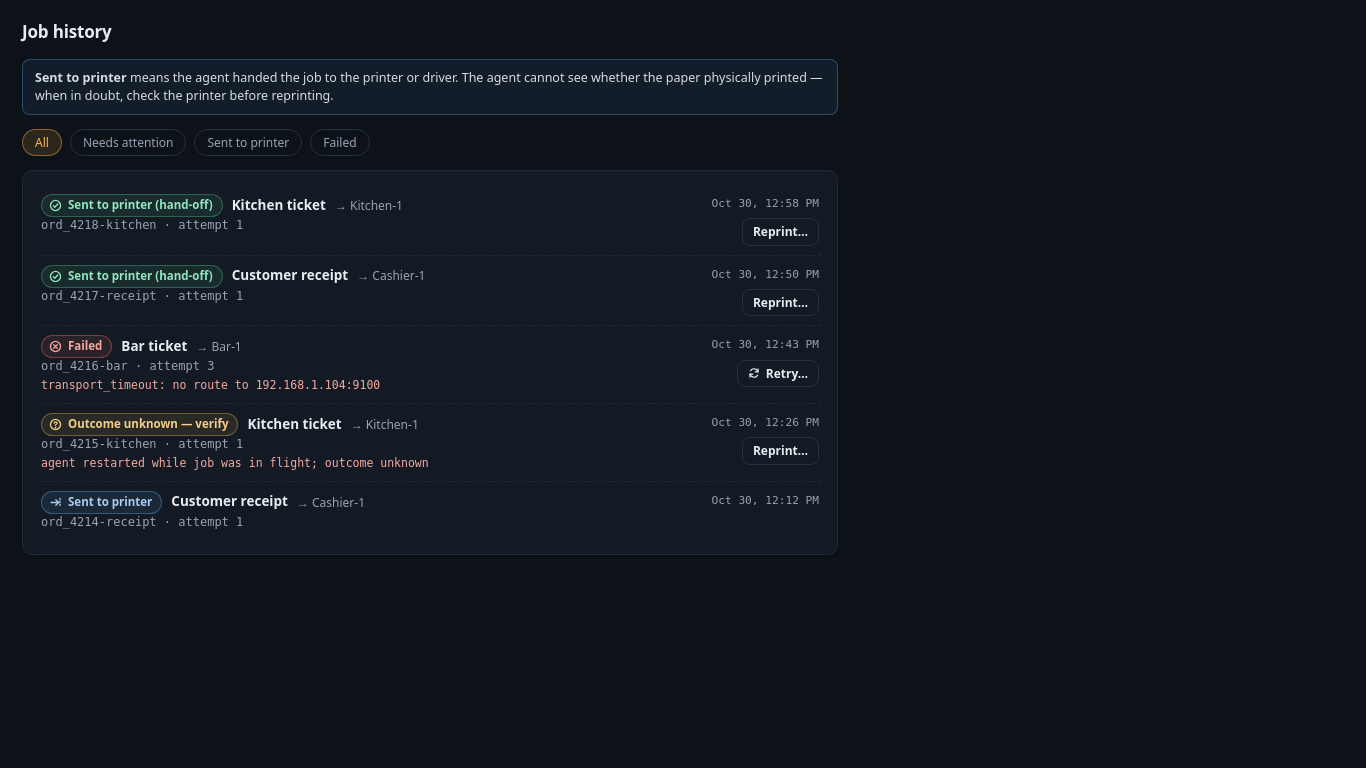
Test case: JobHistoryScreen › requires confirmation for retry and cancels safely
Expected: the text "transport_timeout: no route to 192.168.1.104:9100" is shown, 41,378 -> 380,394
Expected: the list item "transport_timeout" is shown, 41,378 -> 380,392
Click the button "Retry…".
click(778, 373)  # box 737,360 -> 819,387
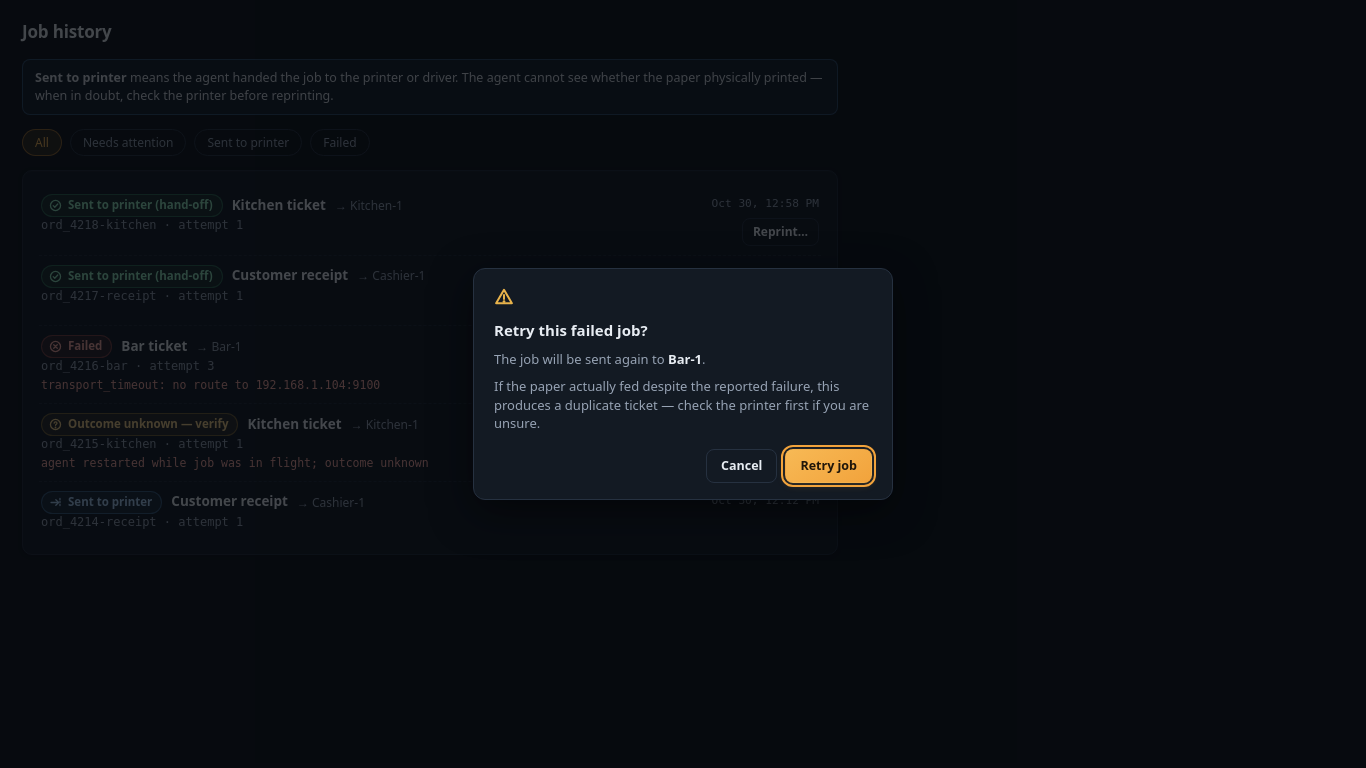
Expected: the dialog shows "Retry", 494,320 -> 648,340
Expected: the dialog shows "duplicate", 494,377 -> 869,432
Click the button "Cancel".
click(742, 466)  # box 706,449 -> 778,483
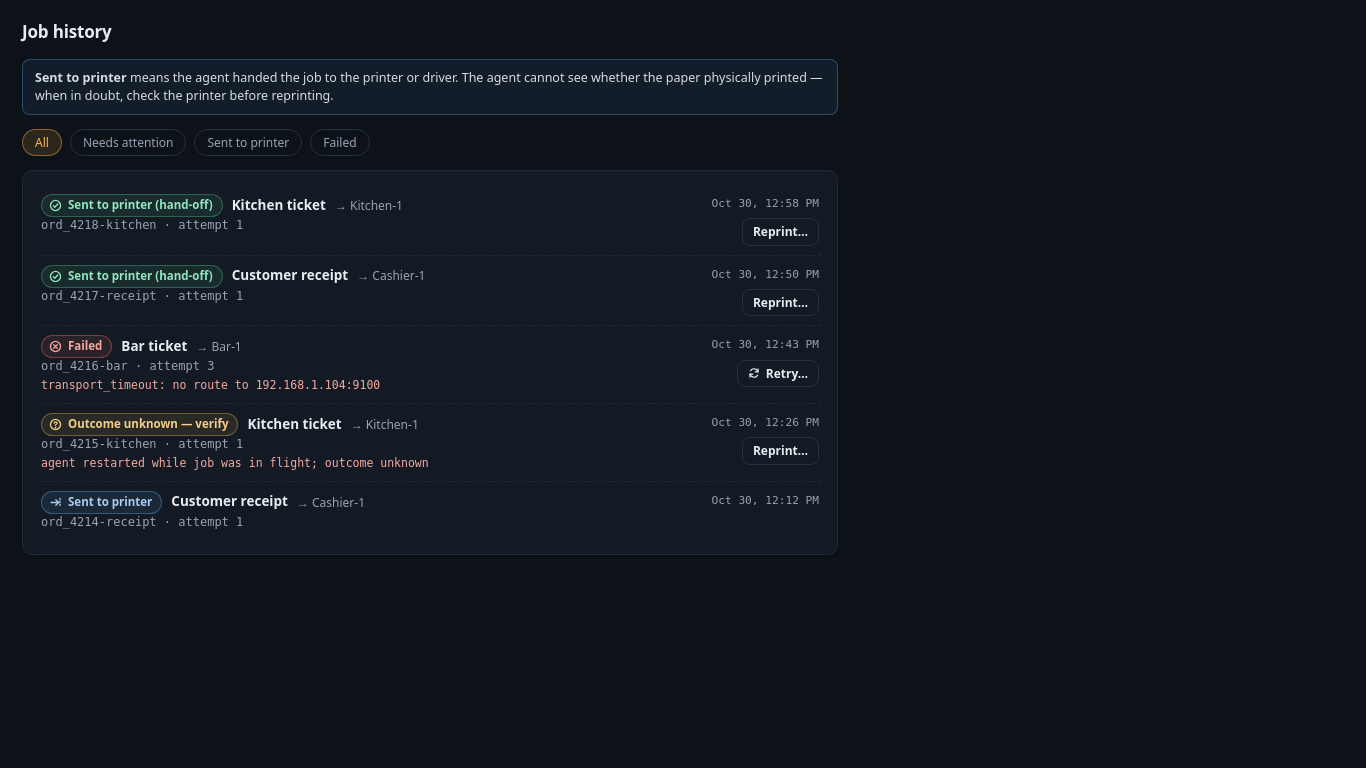
Expected: the dialog is gone
